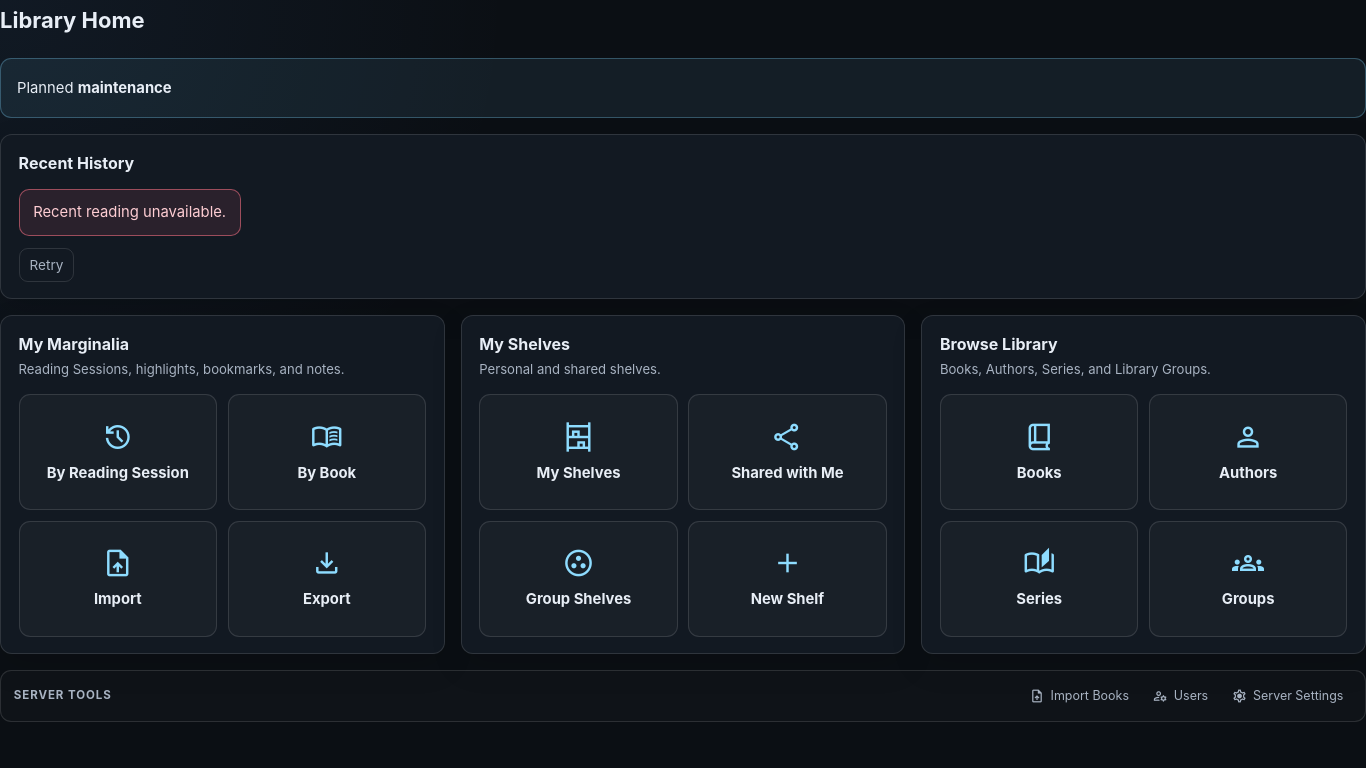
Test: DashboardOrchestrator › retries a recoverable recent-reading failure
Check: the message "Recent reading unavailable." is shown, box [19,189,241,236]
Click the button "Retry" at {"x": 46, "y": 265}, box [19,248,74,282]
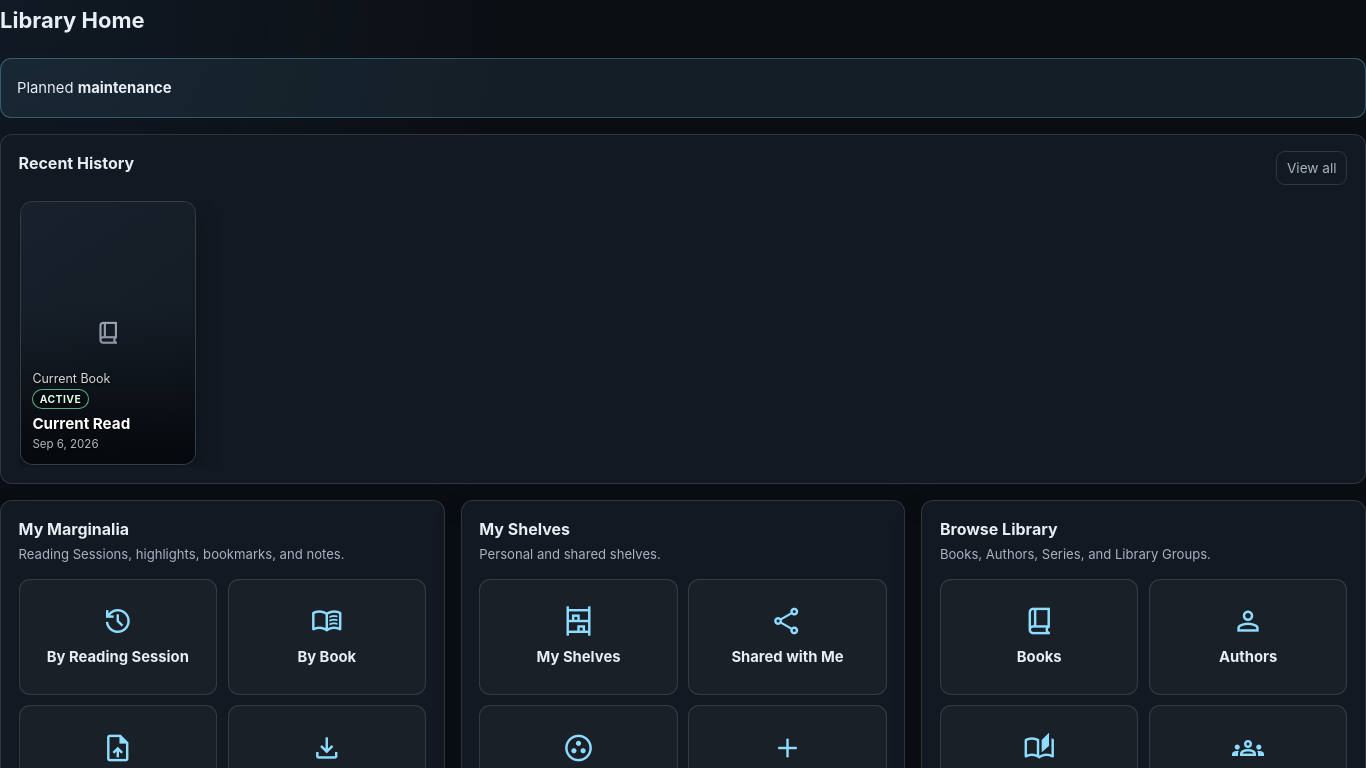
Check: the link to "/marginalia/sessions/session" is shown, box [21,202,195,464]
